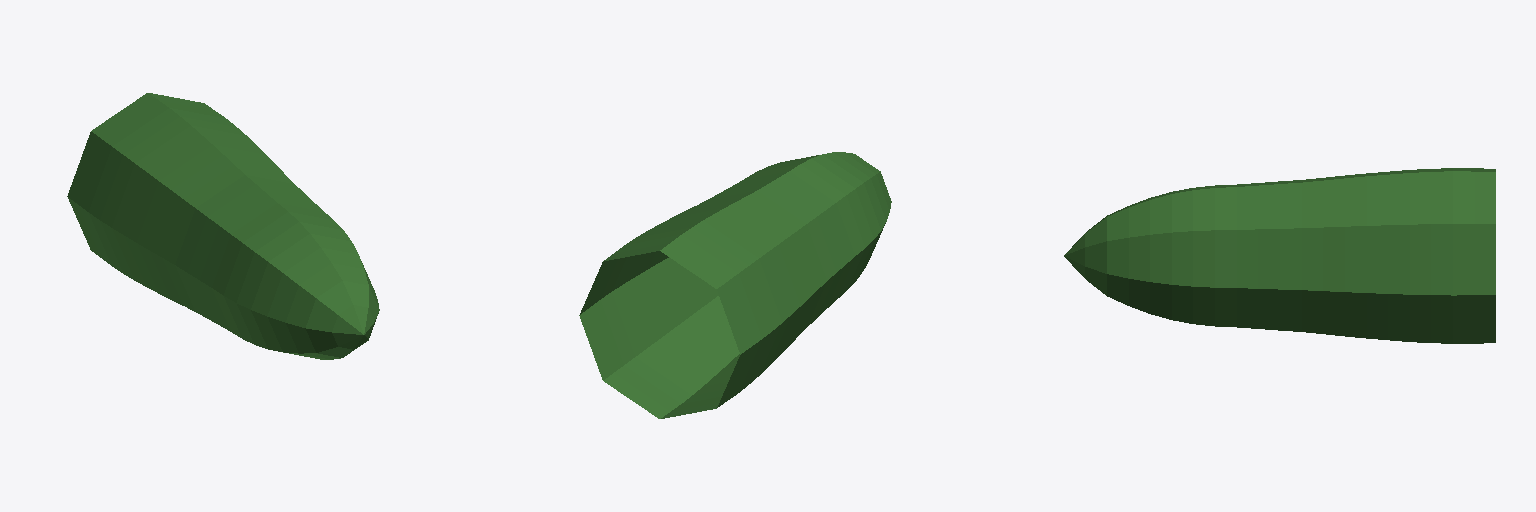
The model's file is stem_00000.obj.
The picture shows the model from 3 angles: view 1: azimuth 30°, elevation 25°; view 2: azimuth 150°, elevation 25°; view 3: azimuth 270°, elevation 25°; orthographic projection.
Visible parts, largest first — view 1: Horn; view 2: Horn; view 3: Horn.
Part boxes in pixels (left/top/right/bottom): Horn: left=67, top=93, right=379, bottom=359; Horn: left=579, top=152, right=891, bottom=418; Horn: left=1064, top=168, right=1495, bottom=343.
Size of the model in its own units: 0.8646 by 0.8646 by 2.